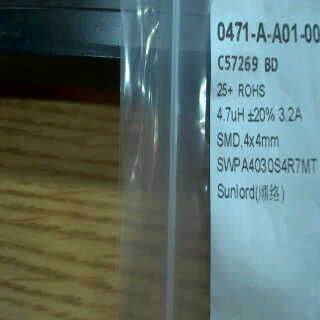4.7uH: (214, 104, 248, 125)
